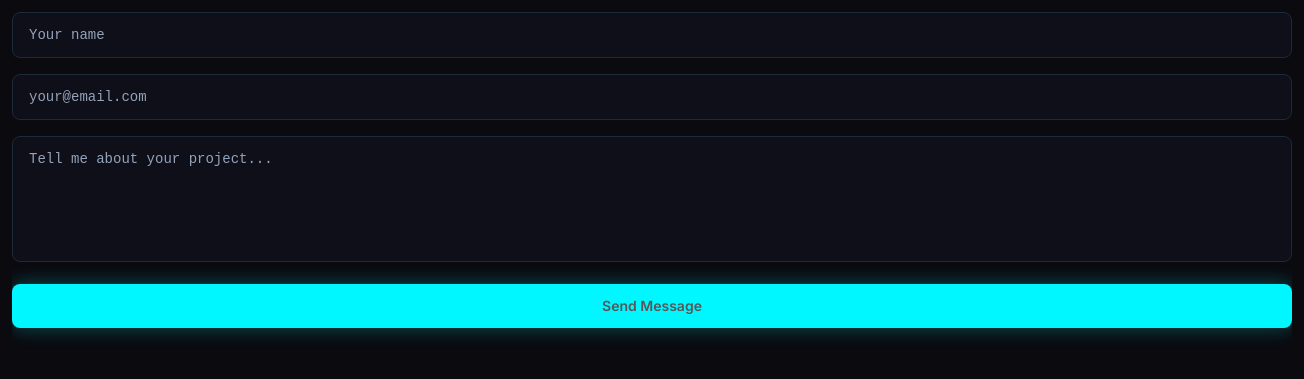
ContactForm › shows an error when submitting empty
Click the button "Send Message".
click(652, 306)  # box [12,284,1292,328]
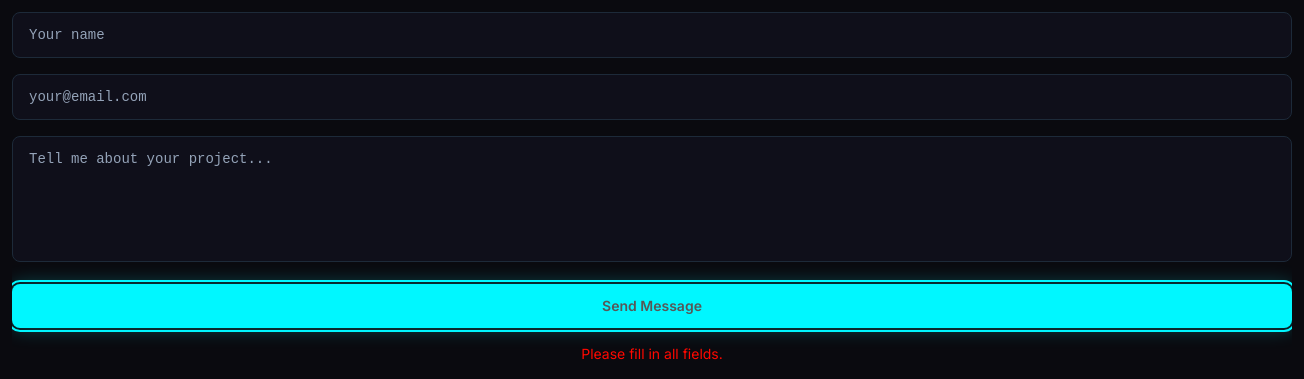
Expected: the text "Please fill in all fields." is shown, [581,345,723,362]
